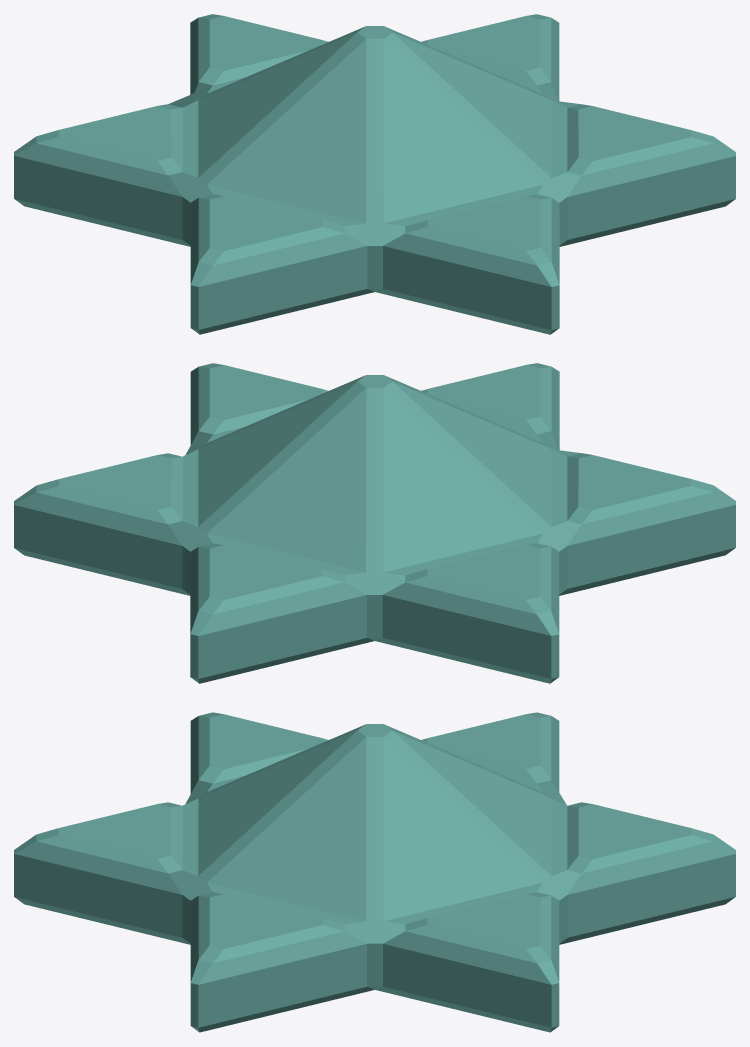
Rendered from CenterStar.glb.
3 views of the same model, one above another, from view 1: azimuth 30°, elevation 25°; view 2: azimuth 150°, elevation 25°; view 3: azimuth 270°, elevation 25° (orthographic).
Parts seen in each view (by area): view 1: CenterStar; view 2: CenterStar; view 3: CenterStar.
Part boxes in pixels (left/top/right/bottom): CenterStar: left=14, top=14, right=735, bottom=334; CenterStar: left=14, top=363, right=735, bottom=683; CenterStar: left=14, top=712, right=735, bottom=1032.
Size of the model in its own units: 0.8123 by 0.2477 by 0.9323.
